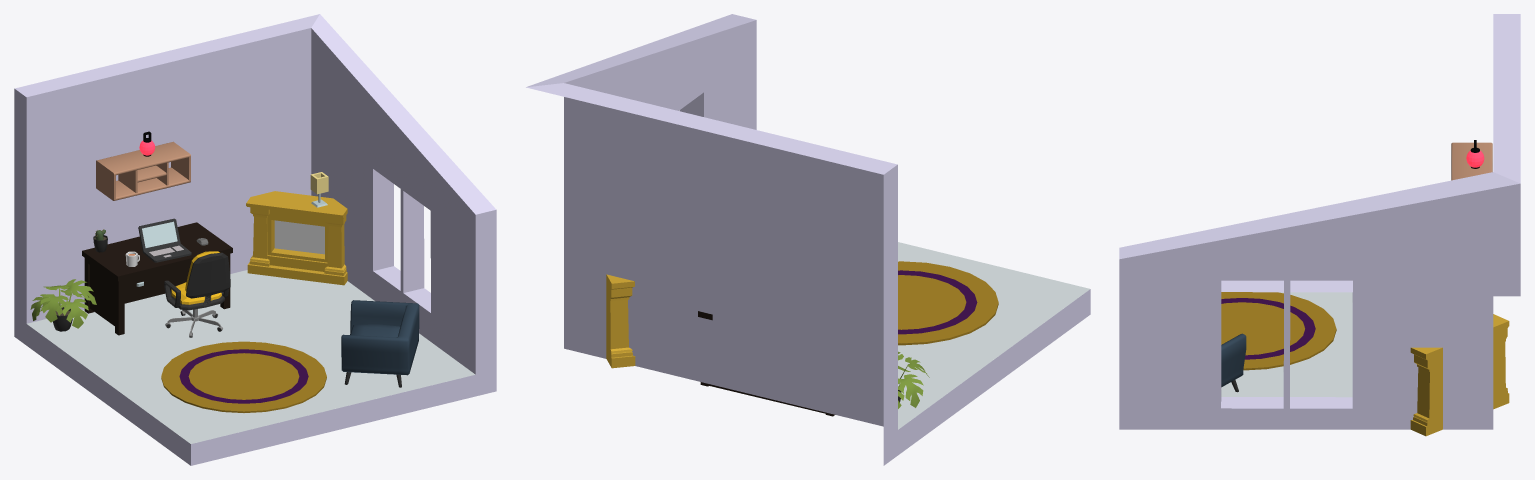
The picture shows the model from 3 angles, left to right: view 1: azimuth 30°, elevation 25°; view 2: azimuth 150°, elevation 25°; view 3: azimuth 270°, elevation 25°; orthographic projection. The views are drawn at different scales.
Visible parts, largest first — view 1: Plane, rugRound, Fireplace, desk, Couch_Small1, Environment_Cabinet_Shelves_2, OfficeChair, Houseplant_7, FireFace, laptop, Screen; view 2: Plane, rugRound, Fireplace, Houseplant_7; view 3: Plane, rugRound, Fireplace, Environment_Cabinet_Shelves_2, Couch_Small1.
Boxes of the visible parts, <box> form: Plane: <box>14,14,496,465</box>; rugRound: <box>161,341,326,412</box>; Fireplace: <box>246,191,347,285</box>; desk: <box>82,222,232,335</box>; Couch_Small1: <box>341,300,419,387</box>; Environment_Cabinet_Shelves_2: <box>96,141,190,200</box>; OfficeChair: <box>164,251,230,337</box>; Houseplant_7: <box>30,279,96,331</box>; FireFace: <box>274,220,324,254</box>; laptop: <box>138,218,191,262</box>; Screen: <box>142,221,177,247</box>; Plane: <box>526,14,1090,465</box>; rugRound: <box>898,261,998,345</box>; Fireplace: <box>606,274,635,368</box>; Houseplant_7: <box>898,351,929,408</box>; Plane: <box>1119,14,1520,429</box>; rugRound: <box>1221,292,1336,370</box>; Fireplace: <box>1410,314,1509,436</box>; Environment_Cabinet_Shelves_2: <box>1451,142,1492,180</box>; Couch_Small1: <box>1221,333,1246,392</box>.
Bounding box in the file's own units: 4.41 × 3.36 × 4.32.
